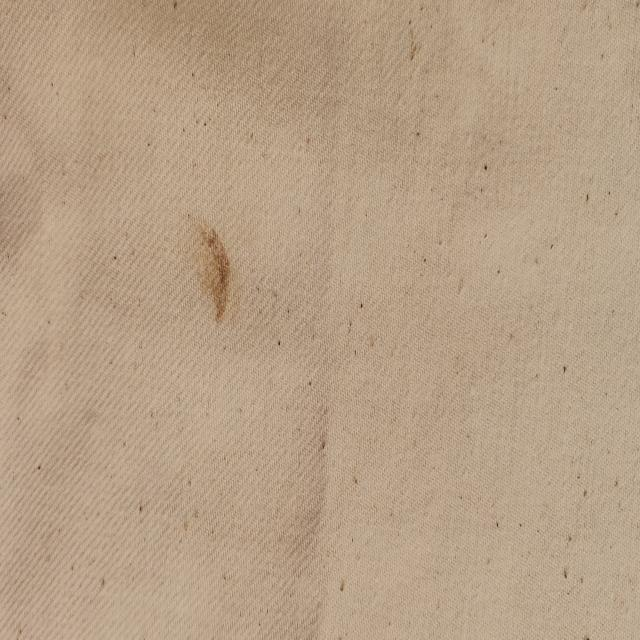taaaches: (192, 216, 234, 322)
